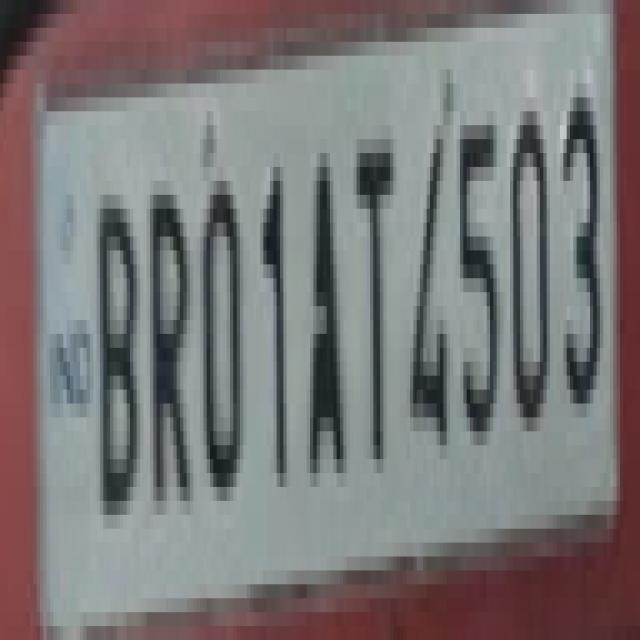0: (506, 104, 556, 457), (198, 158, 244, 520)
1: (254, 169, 301, 538)
3: (559, 67, 607, 450)
4: (409, 104, 453, 503)
5: (456, 113, 503, 469)
A: (303, 156, 352, 497)
B: (91, 167, 141, 536)
R: (148, 177, 195, 516)
T: (354, 140, 403, 484)
